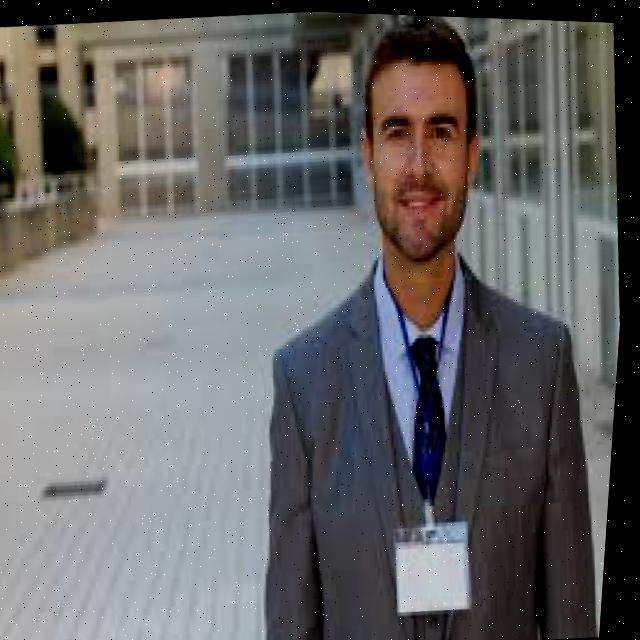id_card: (365, 272, 502, 626)
